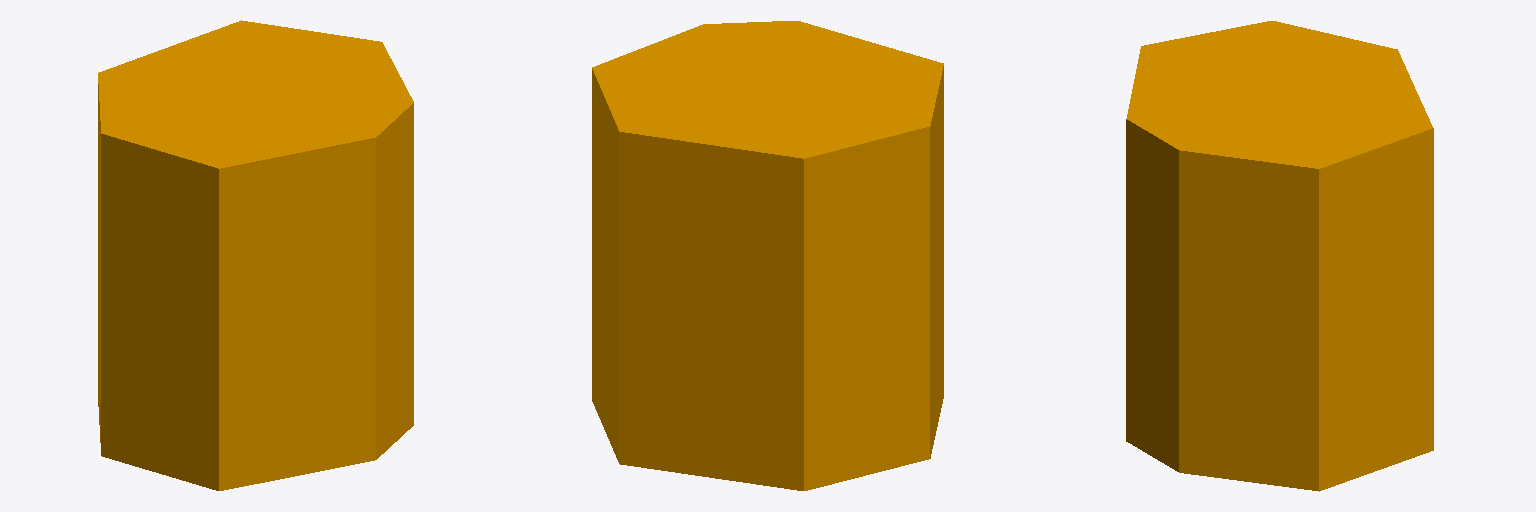
URDF robot description (object):
<?xml version="1.0"?>
<robot name="object">
  <link name="object">
    <visual>
      <origin xyz="0 0 0"/>
      <geometry>
        <mesh filename="meshes/generated/col_018.obj" scale="0.03 0.03 0.03"/>
      </geometry>
    </visual>
    <collision>
      <origin xyz="0 0 0"/>
      <geometry>
        <mesh filename="meshes/generated/col_018.obj" scale="0.03 0.03 0.03"/>
      </geometry>
    </collision>
    <inertial>
      <density value="1000.0"/>
    </inertial>
  </link>
</robot>

--- What the picture shows (computed from the rendered views, not written in the file) ---
The picture shows the robot from 3 angles, left to right: view 1: azimuth 30°, elevation 25°; view 2: azimuth 150°, elevation 25°; view 3: azimuth 270°, elevation 25°; orthographic projection.
Model object with 1 links and 0 joints (none), rooted at object, posed all joints at 0.
Visible links, largest first — view 1: object; view 2: object; view 3: object.
Boxes of the visible links, bbox=[...] form: object: bbox=[98, 20, 413, 490]; object: bbox=[592, 21, 943, 490]; object: bbox=[1126, 21, 1433, 491].
Size in the robot's own frame: 0.0593 by 0.0518 by 0.06 metres.
Meshes: 1 distinct files referenced, 1 mesh visuals loaded (1 OBJ).
